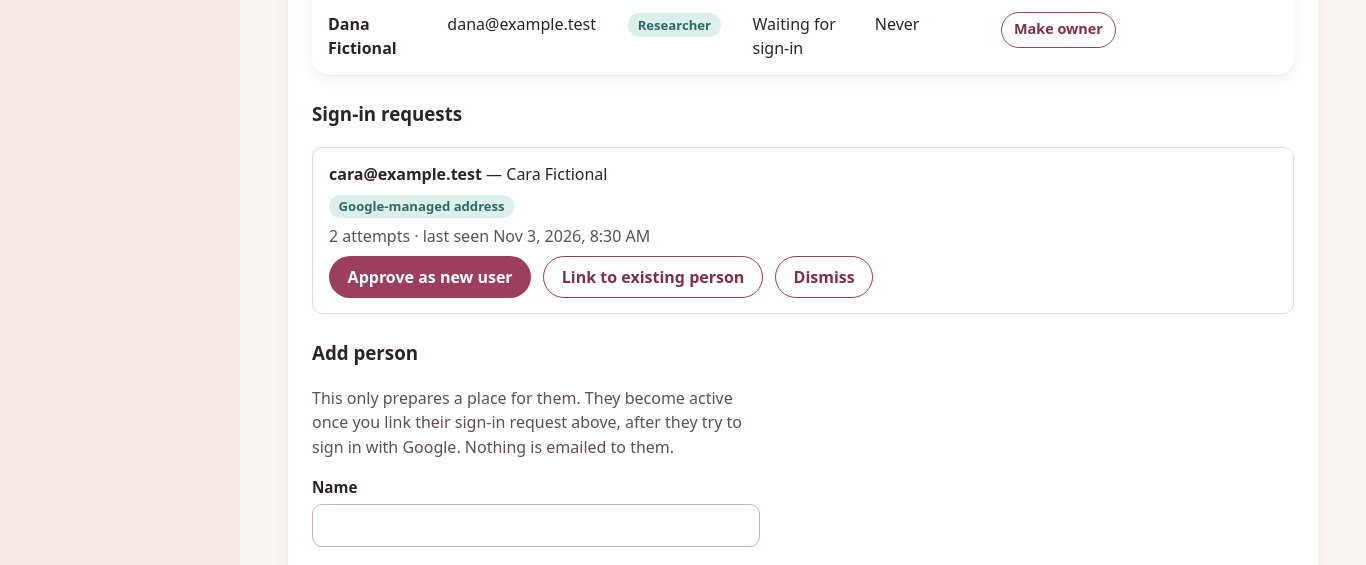
Test: Users administration › explains already-bound
(page scrolled)
Click the button with aria-label "Approve cara@example.test": (430, 277) top-left (329, 256), bottom-right (531, 298)
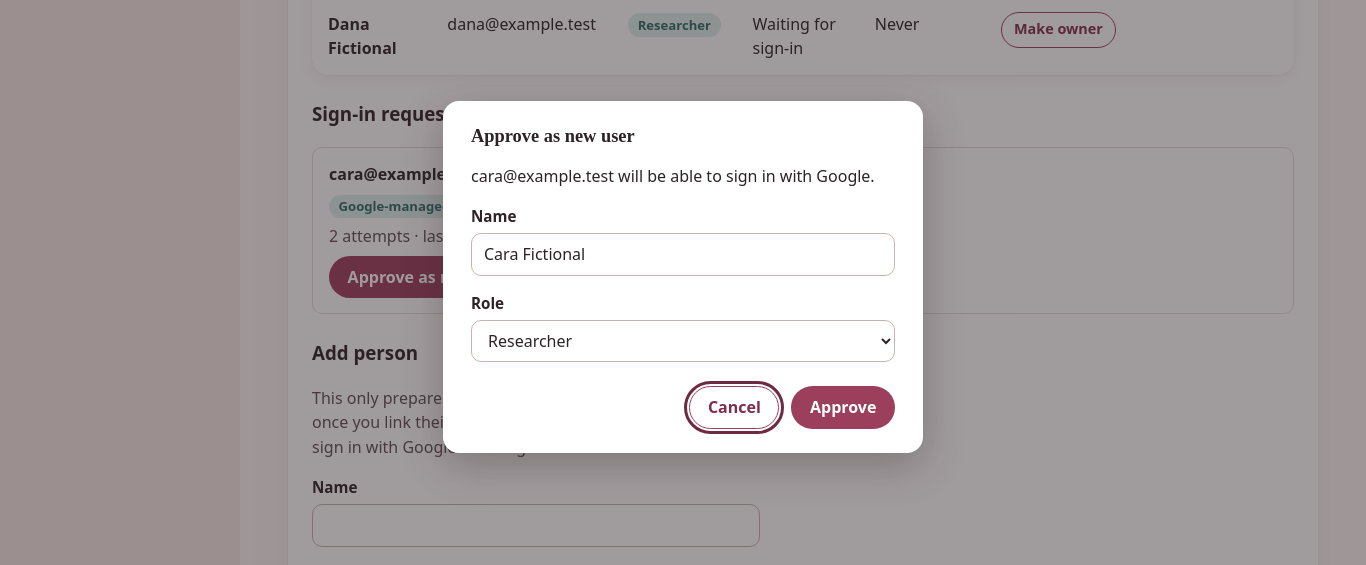
Click the button "Approve": (843, 408) top-left (791, 386), bottom-right (895, 429)
(page scrolled)
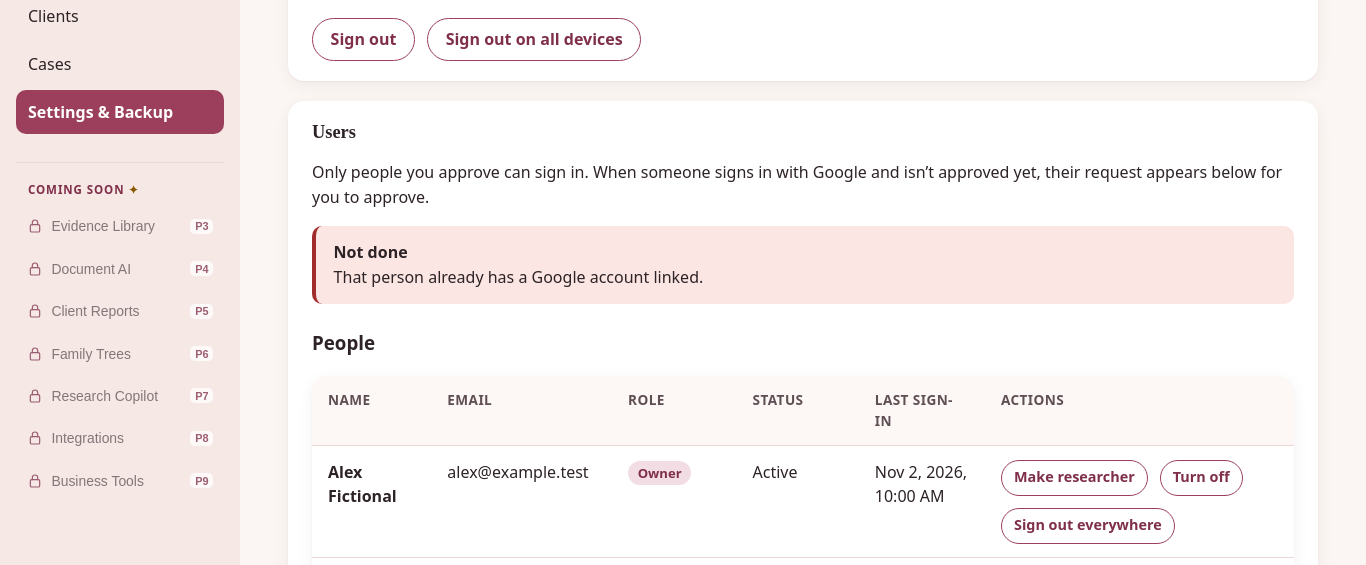
Expected: the text "That person already has a Google account linked." is shown, top-left (334, 266), bottom-right (703, 288)
